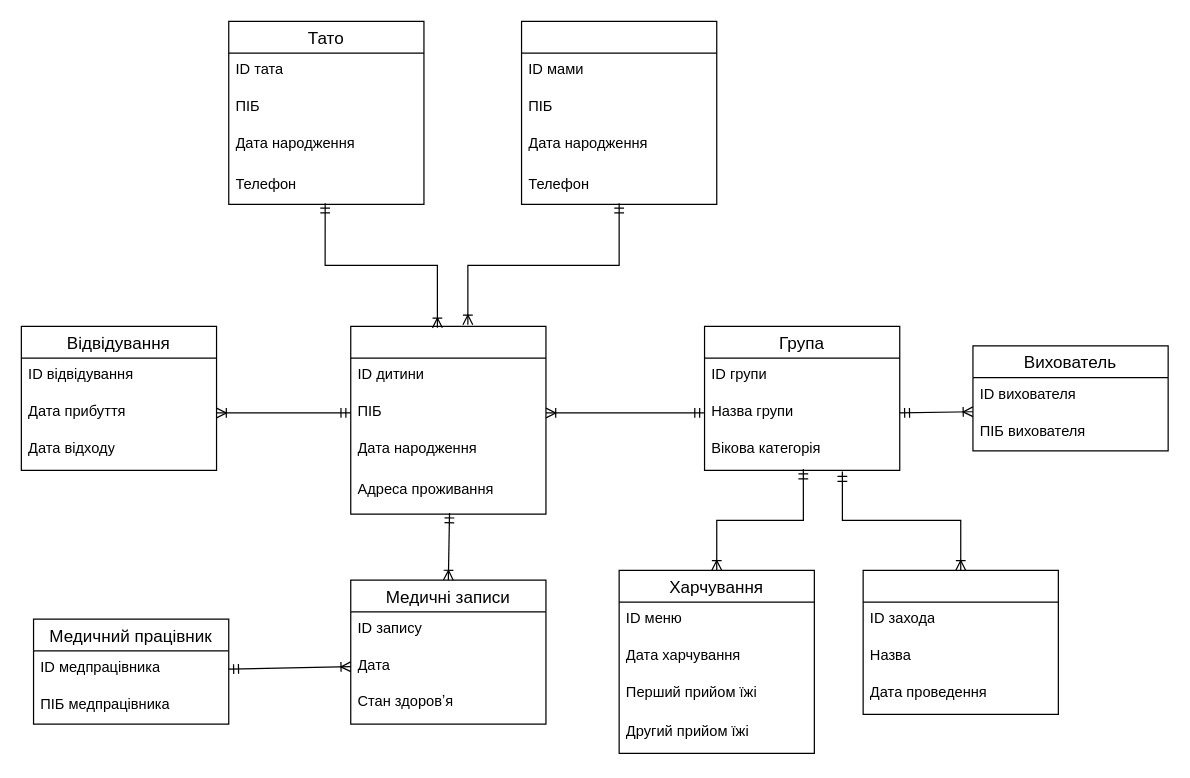
Some shapes in this 1190 by 778 pixel diagram are drawn without their labels. Here are the shapes that lost their labels. From the top down, the box of each, then its label:
(520, 20, 717, 204): Мама
(350, 325, 546, 514): Дитина
(862, 569, 1058, 714): Заходи
